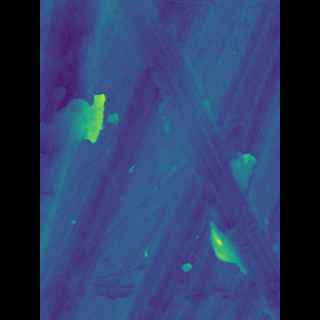Loch: (124, 0, 249, 320)
